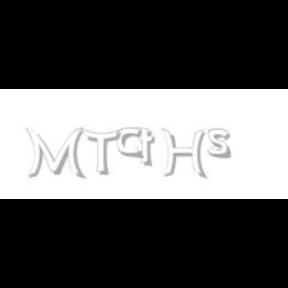H: (161, 128, 207, 180)
M: (24, 128, 84, 180)
T: (81, 128, 121, 176)
c: (116, 128, 146, 160)
s: (208, 128, 236, 160)
t: (137, 128, 159, 168)
